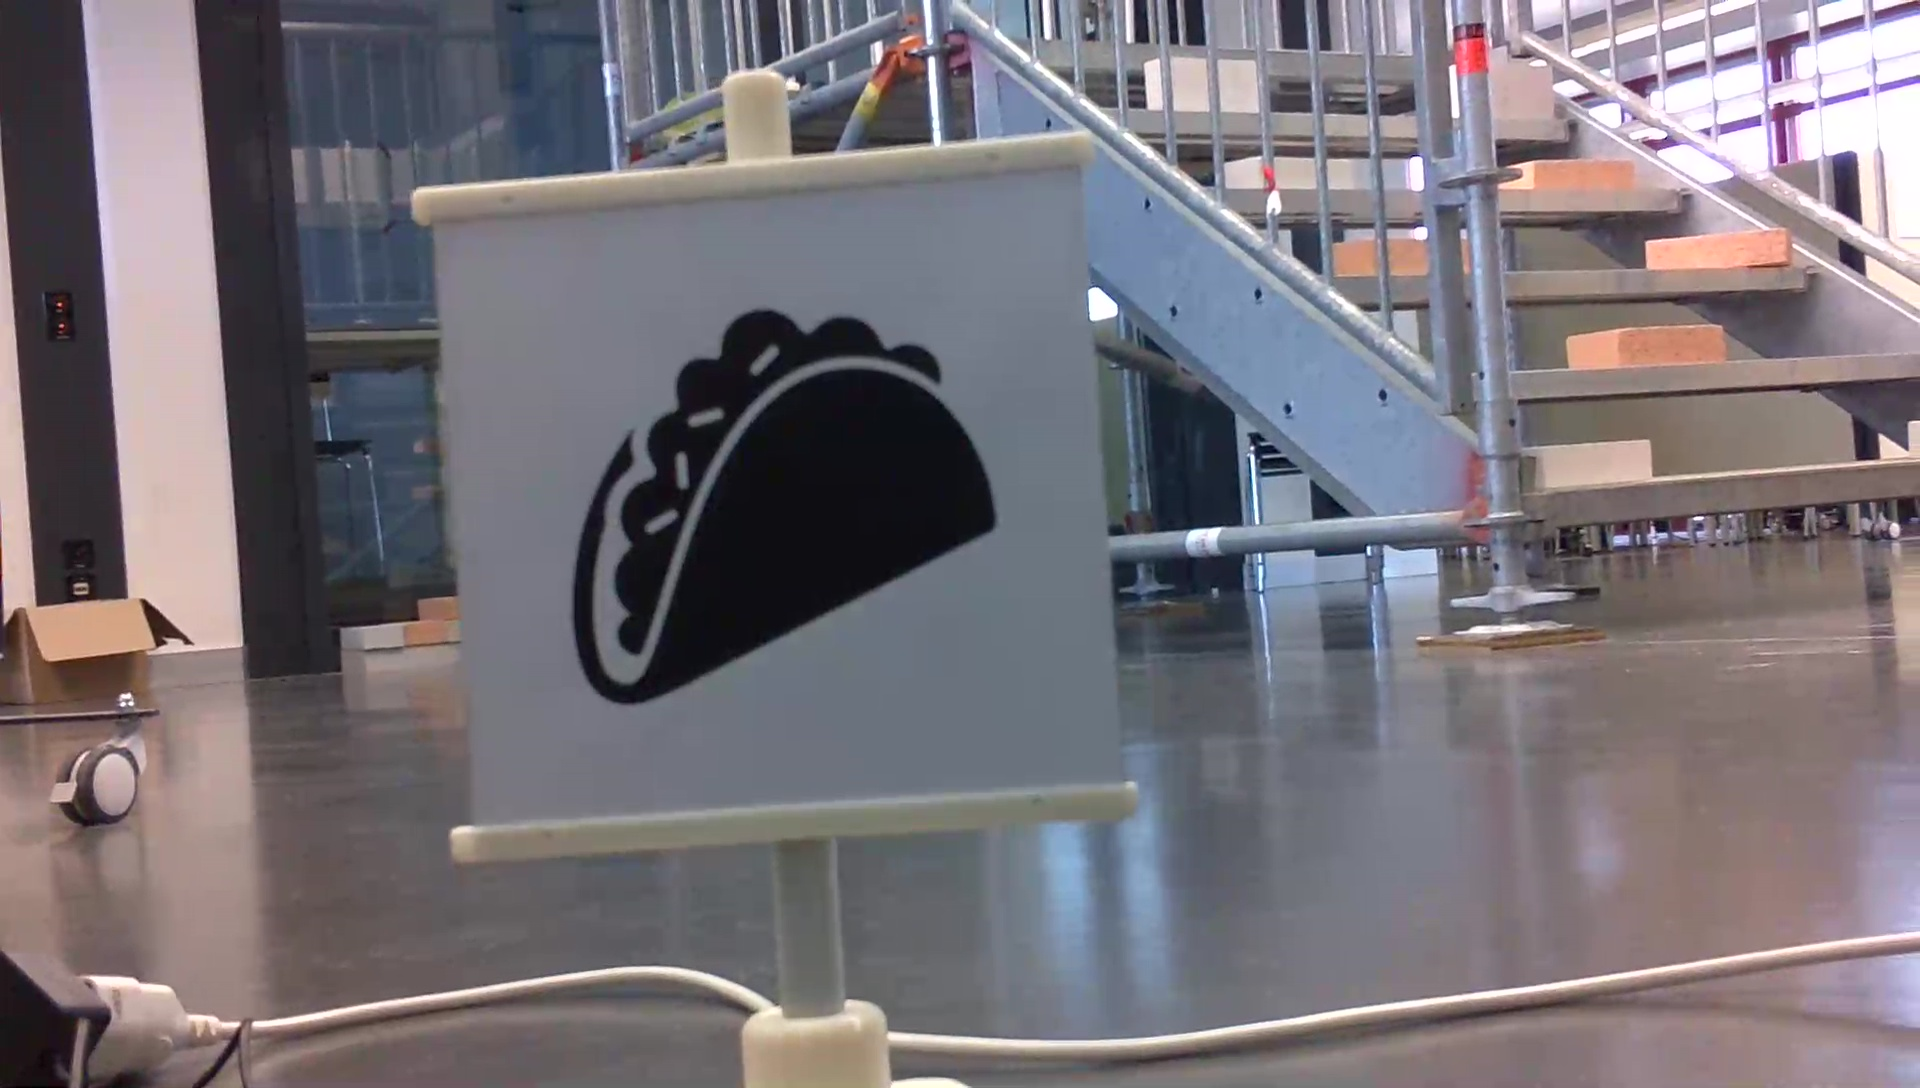brick: (1568, 324, 1721, 368), (1648, 229, 1788, 265), (1538, 443, 1648, 485), (1513, 158, 1633, 193), (1487, 59, 1549, 120)
edge: (1540, 458, 1917, 522), (1515, 351, 1920, 396)
taco: (560, 299, 1004, 712)
